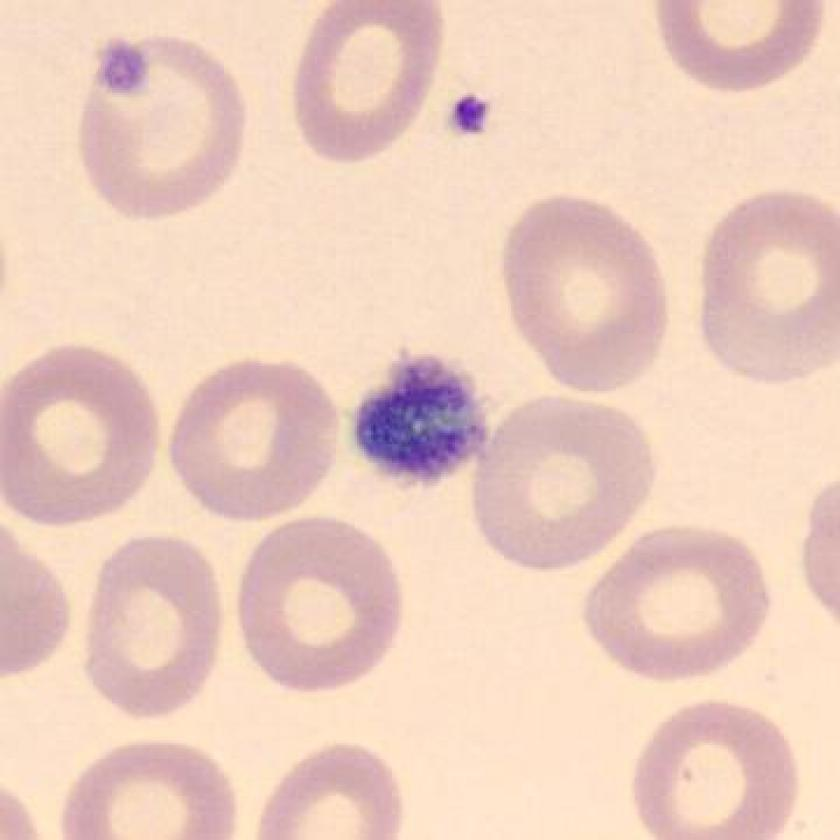platelets: (347, 341, 508, 501), (88, 29, 151, 100), (442, 84, 500, 147)
